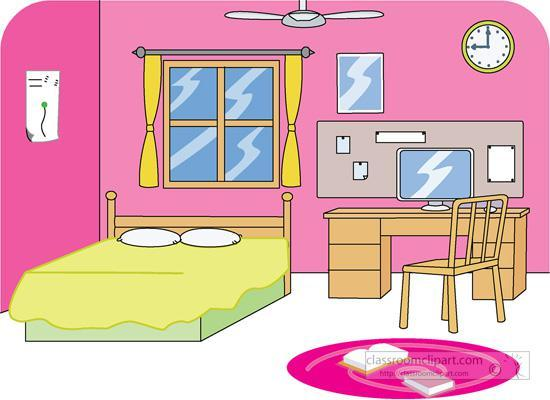chair: (394, 195, 517, 335)
tvmonitor: (390, 144, 477, 215)
